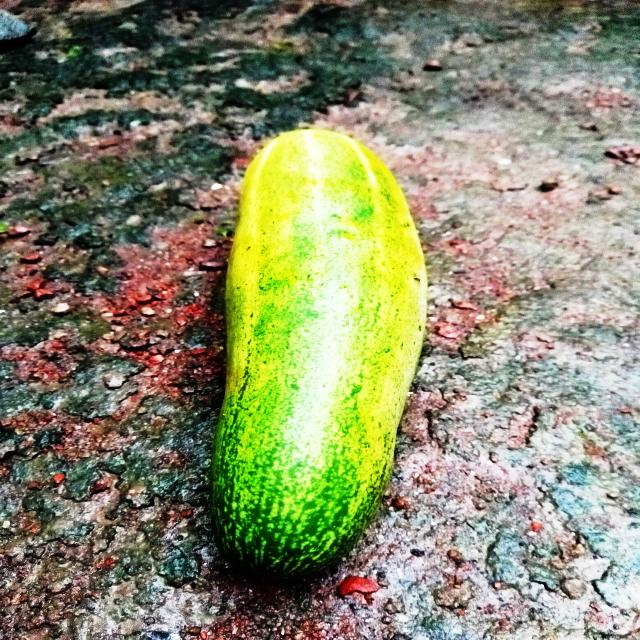Fresh-Cucumber: (206, 124, 430, 586)
